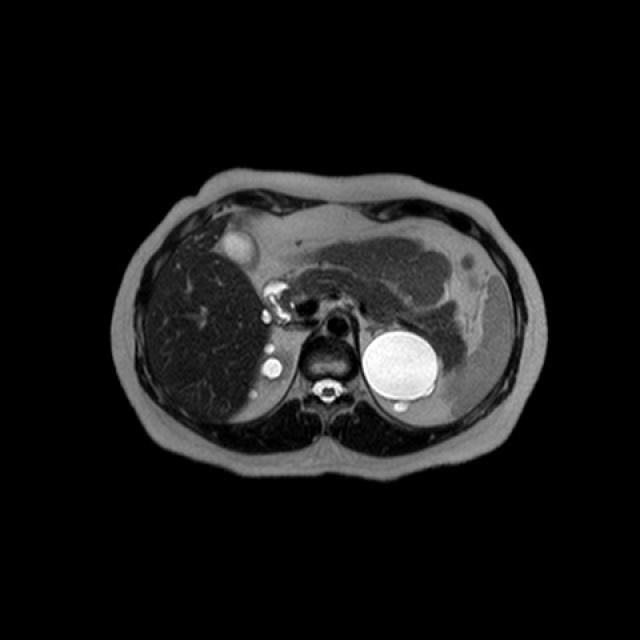sag: (250, 340, 294, 396)
sol: (362, 326, 442, 414)
